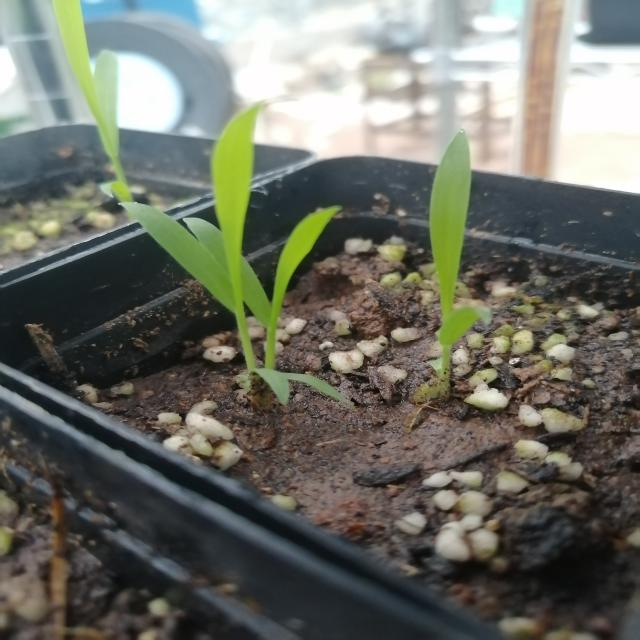crabgrass: (111, 109, 396, 395), (364, 120, 524, 372)
